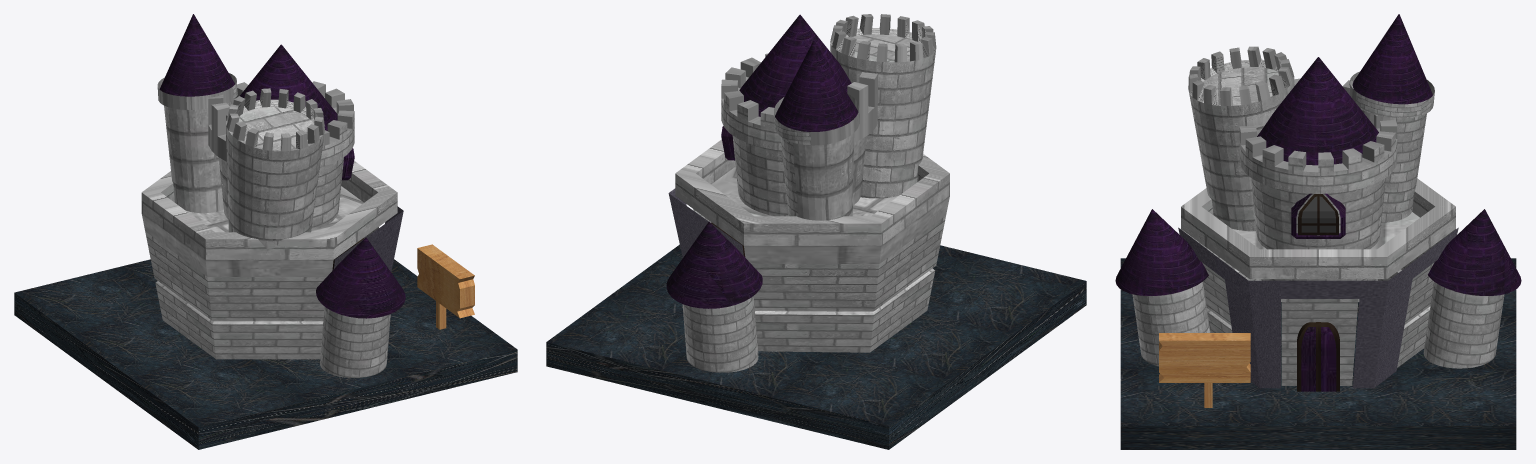
File: entornoBowser.glb
3 renders of one model, left to right at view 1: azimuth 30°, elevation 25°; view 2: azimuth 150°, elevation 25°; view 3: azimuth 270°, elevation 25°, orthographic. The views are drawn at different scales.
Parts seen in each view (by area): view 1: Cube, Cylinder, Cylinder.002, Cylinder.005, Cylinder.001, Cube.001, Cylinder.003; view 2: Cube, Cylinder, Cylinder.002, Cylinder.005, Cylinder.001, Cylinder.003; view 3: Cube, Cylinder.002, Cylinder.005, Cylinder, Cylinder.003, Cylinder.001, Cube.001, Cube.006, Cube.002, Cube.005, Cube.003, Cube.004.
Part boxes in pixels (x1=…): Cube: x1=14, y1=259, x2=517, y2=449; Cylinder: x1=141, y1=161, x2=397, y2=359; Cylinder.002: x1=157, y1=73, x2=354, y2=248; Cylinder.005: x1=159, y1=14, x2=405, y2=318; Cylinder.001: x1=320, y1=306, x2=390, y2=377; Cube.001: x1=417, y1=244, x2=474, y2=329; Cylinder.003: x1=333, y1=206, x2=403, y2=271; Cube: x1=546, y1=244, x2=1086, y2=449; Cylinder: x1=675, y1=139, x2=949, y2=352; Cylinder.002: x1=721, y1=14, x2=936, y2=220; Cylinder.005: x1=666, y1=14, x2=858, y2=308; Cylinder.001: x1=682, y1=296, x2=758, y2=372; Cylinder.003: x1=668, y1=188, x2=743, y2=257; Cube: x1=1120, y1=258, x2=1516, y2=449; Cylinder.002: x1=1188, y1=46, x2=1434, y2=299; Cylinder.005: x1=1115, y1=14, x2=1521, y2=295; Cylinder: x1=1181, y1=178, x2=1455, y2=385; Cylinder.003: x1=1178, y1=227, x2=1458, y2=388; Cylinder.001: x1=1132, y1=282, x2=1504, y2=368; Cube.001: x1=1159, y1=333, x2=1250, y2=407; Cube.006: x1=1301, y1=327, x2=1336, y2=391; Cube.002: x1=1297, y1=322, x2=1339, y2=391; Cube.005: x1=1301, y1=196, x2=1335, y2=232; Cube.003: x1=1291, y1=193, x2=1345, y2=238; Cube.004: x1=1298, y1=194, x2=1338, y2=235.
Size of the model in its own units: 11.41 by 10.62 by 11.7.
7 materials, 6 textured.
